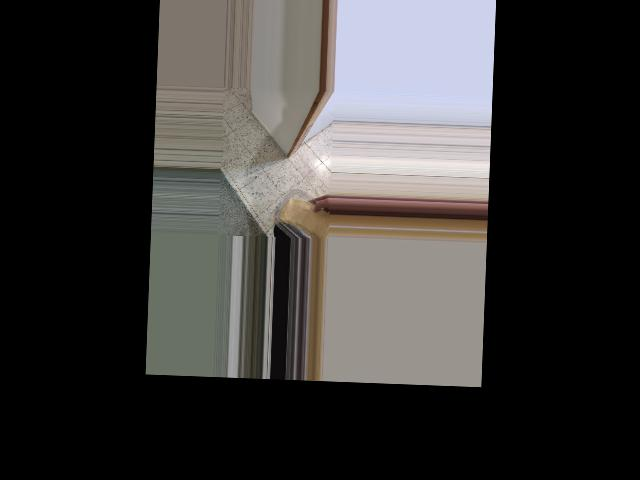cheese: (275, 189, 331, 240)
